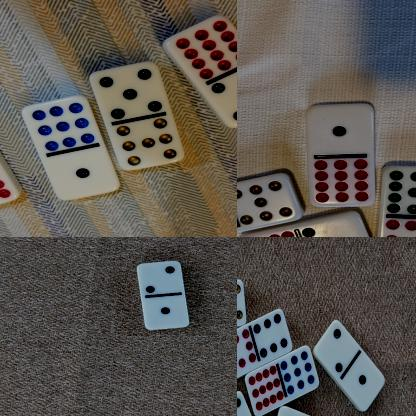pip-1: (46, 152, 122, 200), (306, 103, 374, 156), (349, 359, 386, 411), (145, 296, 190, 330)
pip-11: (382, 166, 416, 218)
pip-12: (165, 16, 237, 79), (311, 157, 376, 206), (246, 364, 284, 416), (0, 161, 20, 214)
pip-2: (313, 321, 354, 375), (302, 212, 374, 237), (137, 261, 184, 296)
pip-5: (91, 62, 170, 119), (213, 67, 237, 128)
pip-6: (254, 308, 293, 359)
pip-7: (118, 119, 186, 172), (237, 176, 299, 227), (237, 280, 247, 328)
pip-8: (237, 329, 256, 381), (379, 217, 416, 237)
pip-9: (23, 96, 96, 153), (282, 346, 320, 396)
